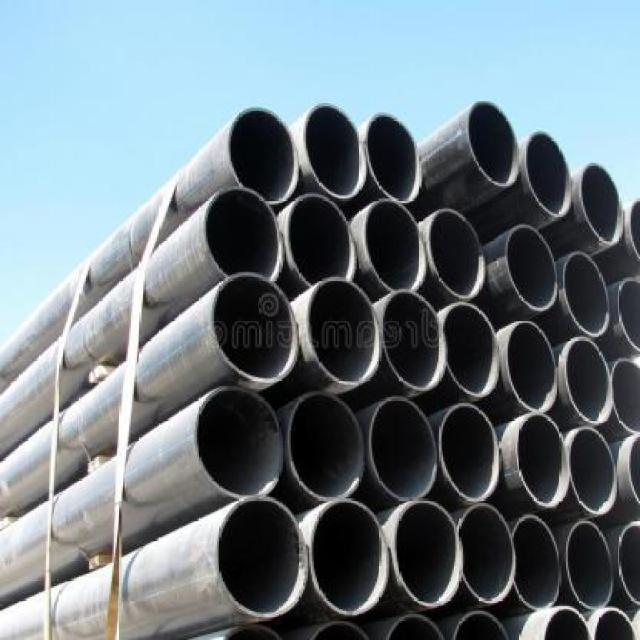pipe: (214, 496, 308, 619), (210, 272, 299, 383), (194, 386, 283, 497), (309, 500, 389, 616), (288, 392, 365, 500), (306, 277, 382, 385), (391, 499, 464, 607), (203, 188, 283, 279), (368, 395, 437, 500), (228, 108, 301, 205), (382, 291, 448, 393), (362, 199, 427, 294), (287, 194, 356, 283), (456, 503, 516, 605), (302, 105, 367, 199), (438, 405, 500, 503), (442, 301, 500, 397), (516, 413, 570, 510), (365, 112, 422, 203), (428, 210, 485, 299), (511, 514, 560, 611), (506, 320, 557, 413), (466, 102, 520, 188), (505, 225, 558, 311), (523, 131, 572, 219), (568, 426, 617, 514), (565, 520, 613, 609), (565, 337, 613, 425), (563, 251, 611, 335), (580, 163, 625, 246), (617, 277, 640, 353)
